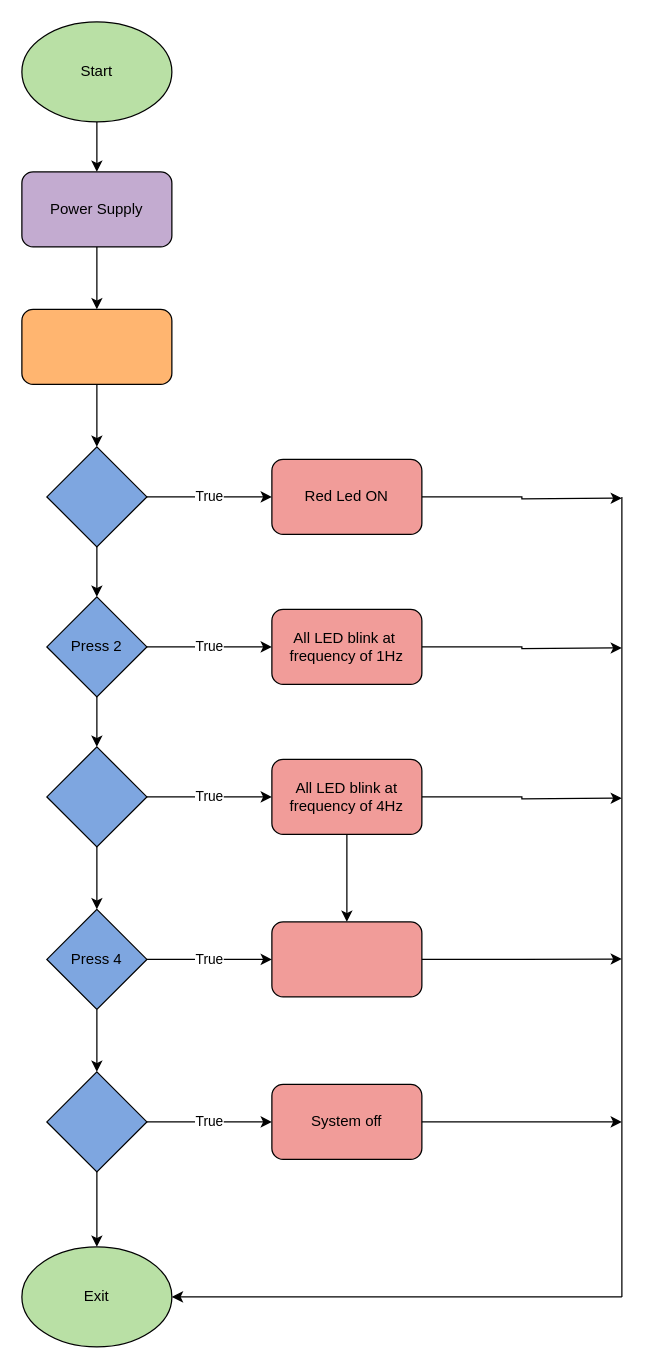
Image size: 654x1369. Some labels were removed from this diagram. Each missing label, with the centre of its shape:
All LED blink at frequency of 8Hz: [346,959]
Press 1 For 2 sec: [96,496]
Press 3: [96,796]
Press 5 For 2 sec: [96,1121]
Push Button: [96,346]
